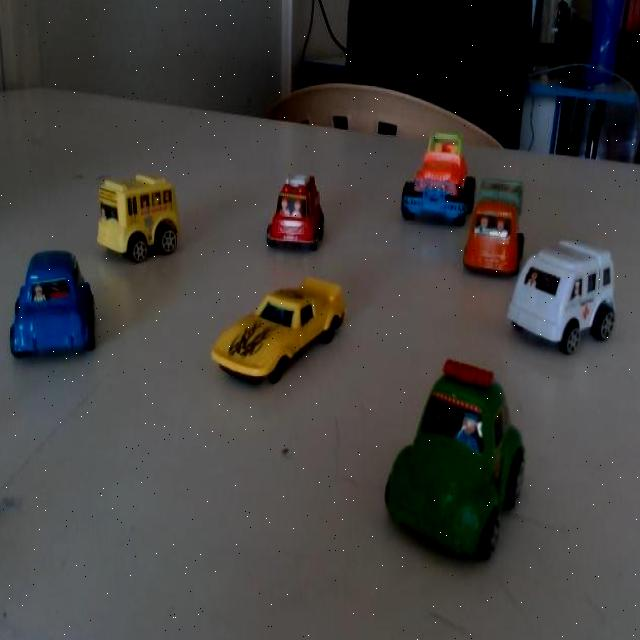car: (389, 364, 539, 543), (208, 264, 352, 397), (506, 224, 624, 368), (0, 242, 101, 376), (102, 172, 189, 272), (392, 123, 471, 224), (464, 166, 530, 281), (267, 162, 337, 263)
